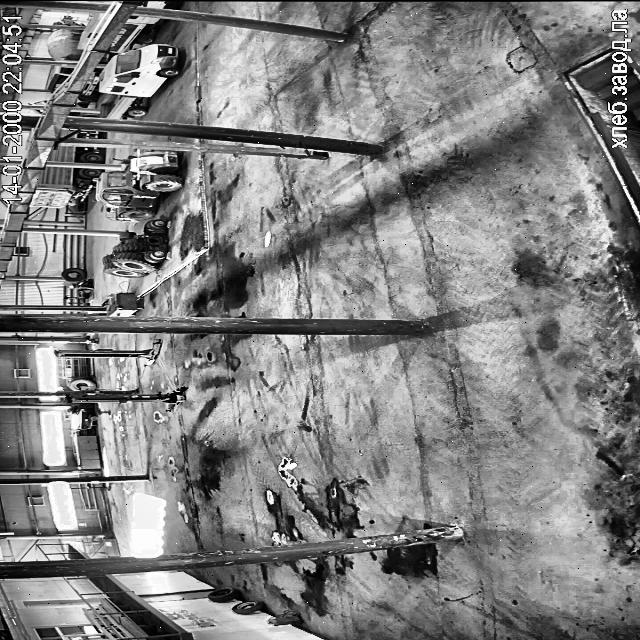class6: (96, 151, 182, 221), (102, 220, 166, 278)
class7: (100, 44, 180, 119), (28, 167, 100, 208), (108, 16, 158, 52), (46, 28, 83, 60), (46, 146, 101, 163), (80, 12, 102, 47), (77, 70, 99, 104), (45, 66, 73, 92), (139, 0, 179, 8), (60, 129, 99, 136), (57, 19, 76, 24)
tractor: (268, 611, 300, 624)
truck: (67, 387, 186, 410), (54, 340, 161, 364)
